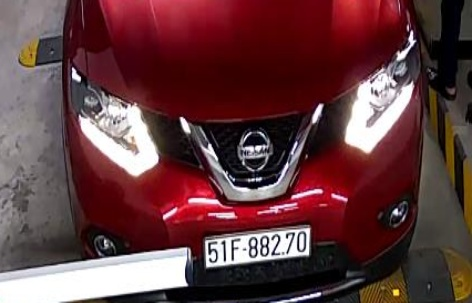plate: (196, 224, 318, 271)
